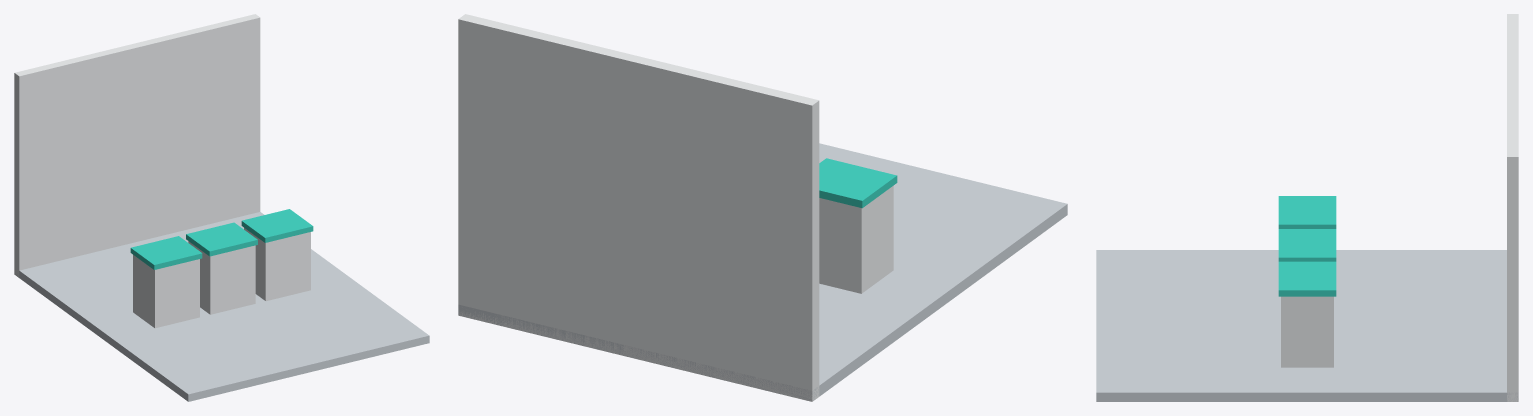
The picture shows the model from 3 angles, left to right: view 1: azimuth 30°, elevation 25°; view 2: azimuth 150°, elevation 25°; view 3: azimuth 270°, elevation 25°; orthographic projection. The views are drawn at different scales.
Parts seen in each view (by area): view 1: Exhibition Booth Concept; view 2: Exhibition Booth Concept; view 3: Exhibition Booth Concept.
Part boxes in pixels (left/top/right/bottom): Exhibition Booth Concept: left=14, top=14, right=429, bottom=401; Exhibition Booth Concept: left=458, top=14, right=1067, bottom=401; Exhibition Booth Concept: left=1096, top=14, right=1518, bottom=401.
Bounding box in the file's own units: 4 × 3.2 × 5.
